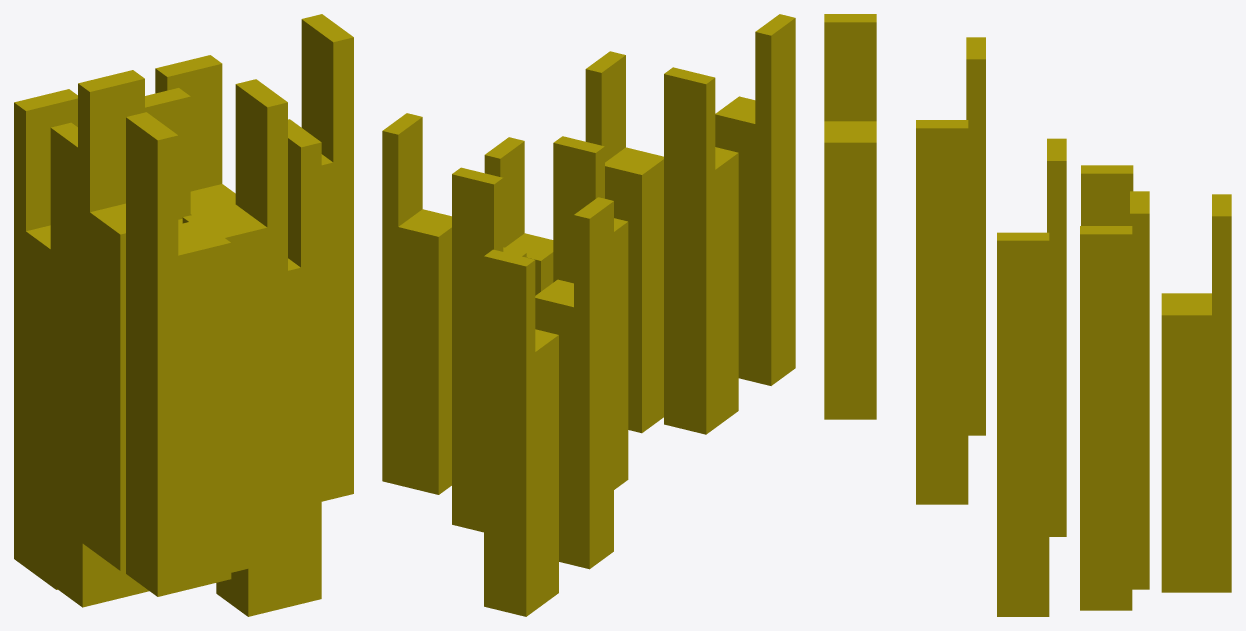
The model's file is ColumnsWithBack.fbx.
The picture shows the model from 3 angles, left to right: view 1: azimuth 30°, elevation 25°; view 2: azimuth 150°, elevation 25°; view 3: azimuth 270°, elevation 25°; orthographic projection. The views are drawn at different scales.
Visible parts, largest first — view 1: ColumnsWithBack; view 2: ColumnsWithBack; view 3: ColumnsWithBack.
Boxes of the visible parts, x1=… form: ColumnsWithBack: x1=14, y1=14, x2=353, y2=616; ColumnsWithBack: x1=382, y1=14, x2=795, y2=616; ColumnsWithBack: x1=824, y1=14, x2=1231, y2=616.
Size of the model in its own units: 1530 by 2600 by 1865.
